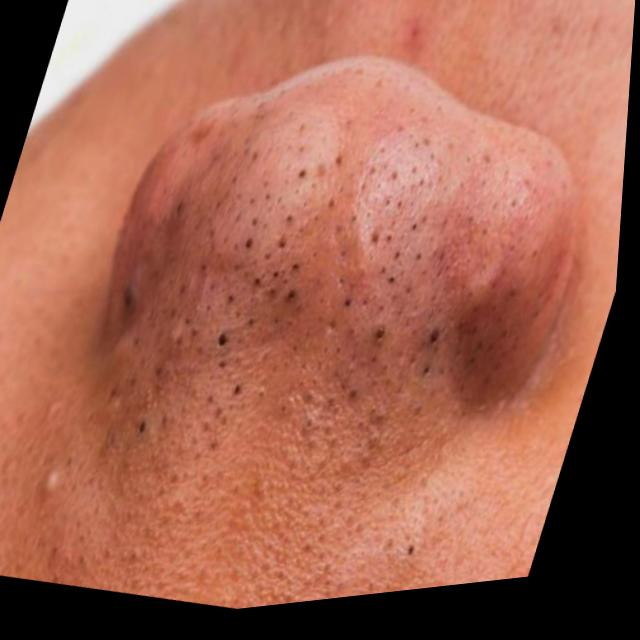blackhead: (163, 117, 488, 436)
